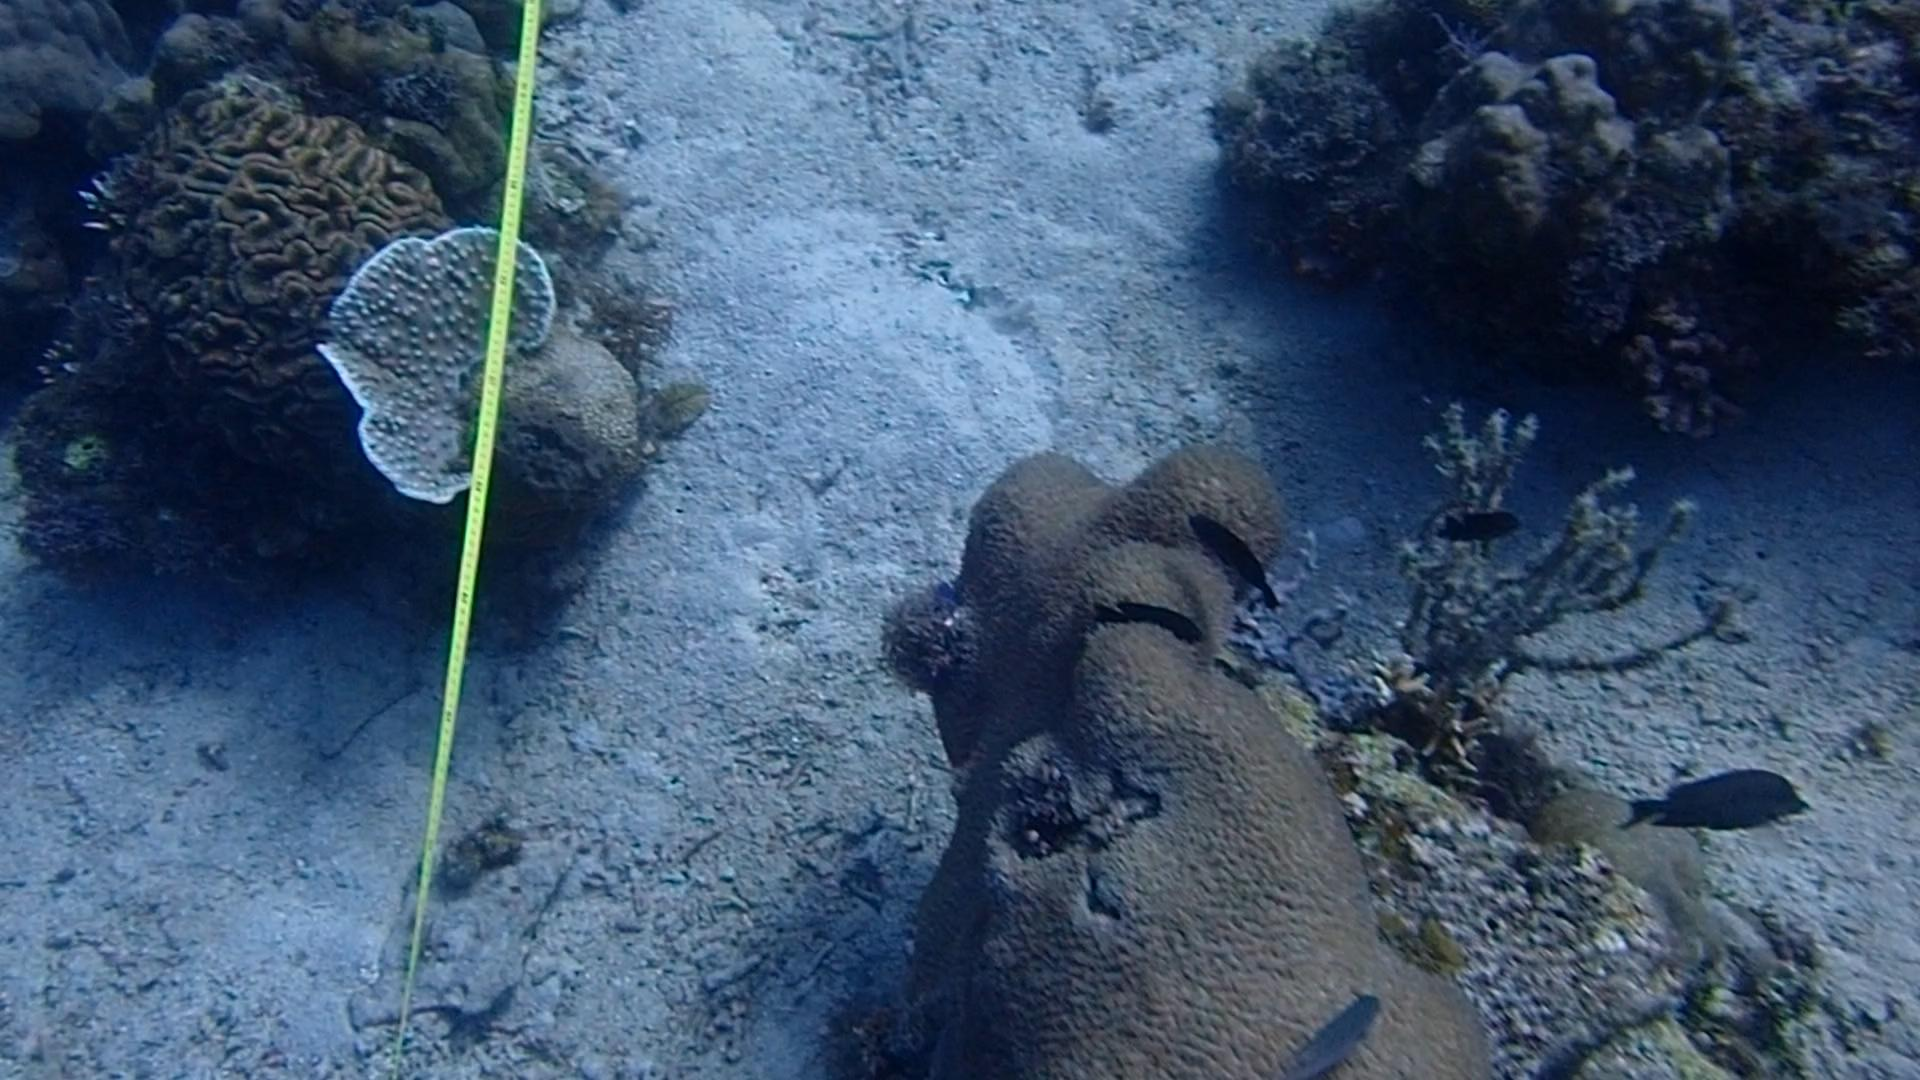Big Dark Blue Fish: (1609, 761, 1829, 855)
Dark Fish: (1176, 498, 1290, 593), (1431, 496, 1543, 556), (1087, 599, 1207, 637)
Light Fish: (1288, 986, 1399, 1080)
